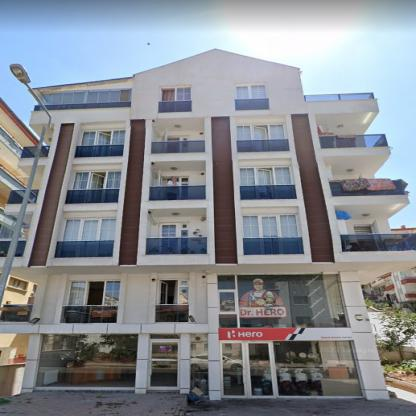door: (220, 341, 276, 398), (148, 341, 180, 390), (159, 223, 178, 238), (372, 220, 379, 233), (162, 128, 167, 141)
window: (218, 273, 349, 328), (34, 334, 138, 388), (272, 341, 364, 398), (242, 214, 299, 238), (61, 218, 116, 240), (41, 90, 120, 104), (240, 166, 294, 185), (74, 171, 120, 189), (236, 123, 284, 140), (191, 334, 208, 380), (80, 129, 124, 145), (234, 82, 267, 98), (67, 280, 87, 305), (160, 86, 190, 102), (104, 281, 119, 306), (8, 277, 27, 290), (178, 280, 188, 304), (150, 333, 179, 340), (158, 280, 166, 303), (180, 222, 188, 236), (180, 136, 188, 140)
